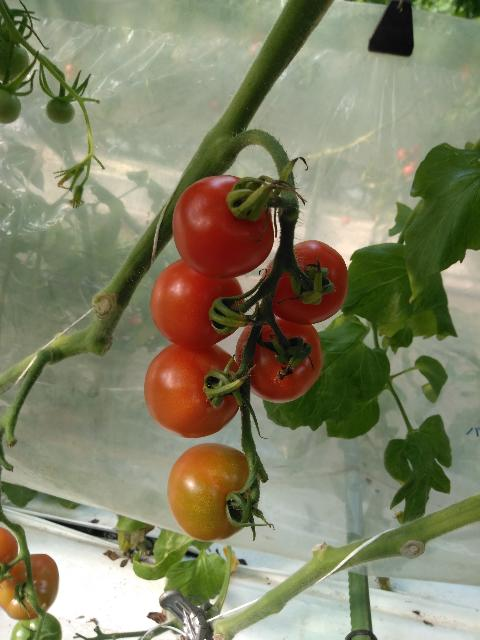l_fully_ripened: (173, 175, 274, 279), (150, 258, 246, 350), (235, 313, 323, 403), (262, 240, 348, 325)
l_green: (10, 612, 62, 640), (0, 37, 30, 83), (0, 88, 22, 124), (45, 98, 75, 124)
l_half_ripened: (144, 343, 245, 438), (167, 442, 261, 542), (0, 554, 60, 621), (0, 527, 19, 583)
